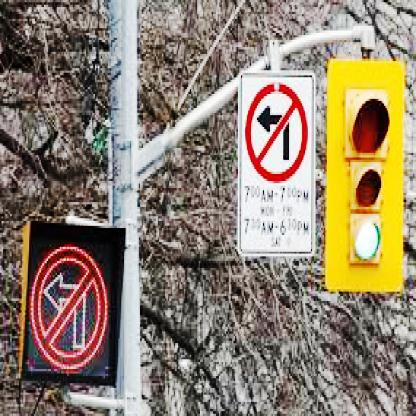No left turn: (239, 75, 312, 187)
